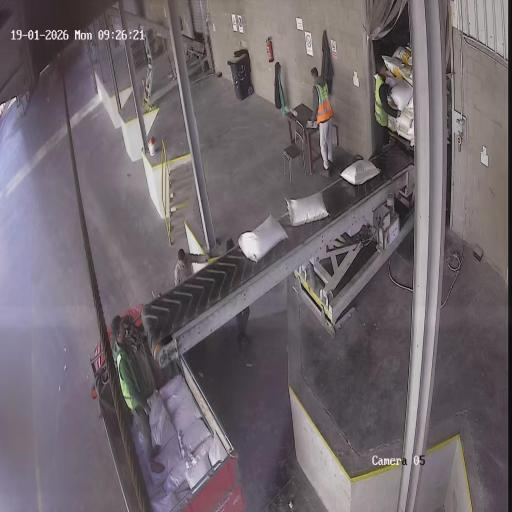c-belt-sack-count: (238, 216, 287, 262), (286, 192, 329, 226), (341, 160, 380, 185)
